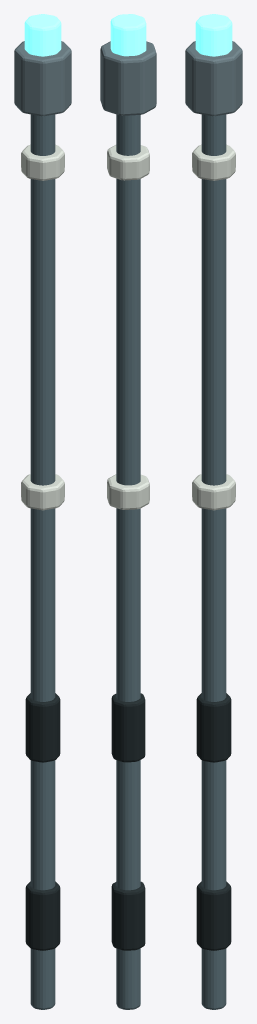
File: pole_beacon.glb
3 renders of one model, left to right at view 1: azimuth 90°, elevation 25°; view 2: azimuth 210°, elevation 25°; view 3: azimuth 270°, elevation 25°, orthographic.
Parts seen in each view (by area): view 1: Pole shaft.006, Beacon housing.002, Grip collar.012, Grip collar.013, Beacon lens.002, Hoist latch.012, Hoist latch.013; view 2: Pole shaft.006, Beacon housing.002, Grip collar.013, Grip collar.012, Beacon lens.002, Hoist latch.013, Hoist latch.012; view 3: Pole shaft.006, Beacon housing.002, Grip collar.012, Grip collar.013, Beacon lens.002, Hoist latch.012, Hoist latch.013.
Boxes of the visible parts, bbox=[...] form: Pole shaft.006: bbox=[30, 114, 55, 1009]; Beacon housing.002: bbox=[14, 41, 71, 116]; Grip collar.012: bbox=[25, 881, 60, 950]; Grip collar.013: bbox=[25, 693, 60, 762]; Beacon lens.002: bbox=[24, 14, 61, 56]; Hoist latch.012: bbox=[21, 474, 64, 510]; Hoist latch.013: bbox=[21, 144, 64, 180]; Pole shaft.006: bbox=[116, 114, 140, 1009]; Beacon housing.002: bbox=[100, 41, 156, 115]; Grip collar.013: bbox=[111, 693, 145, 762]; Grip collar.012: bbox=[111, 881, 145, 950]; Beacon lens.002: bbox=[110, 14, 146, 56]; Hoist latch.013: bbox=[107, 145, 149, 180]; Hoist latch.012: bbox=[107, 474, 149, 509]; Pole shaft.006: bbox=[201, 114, 226, 1009]; Beacon housing.002: bbox=[185, 41, 242, 116]; Grip collar.012: bbox=[196, 881, 231, 950]; Grip collar.013: bbox=[196, 693, 231, 762]; Beacon lens.002: bbox=[195, 14, 232, 56]; Hoist latch.012: bbox=[192, 474, 235, 510]; Hoist latch.013: bbox=[192, 144, 235, 180].
Bounding box in the file's own units: 0.166 × 3.14 × 0.166.
